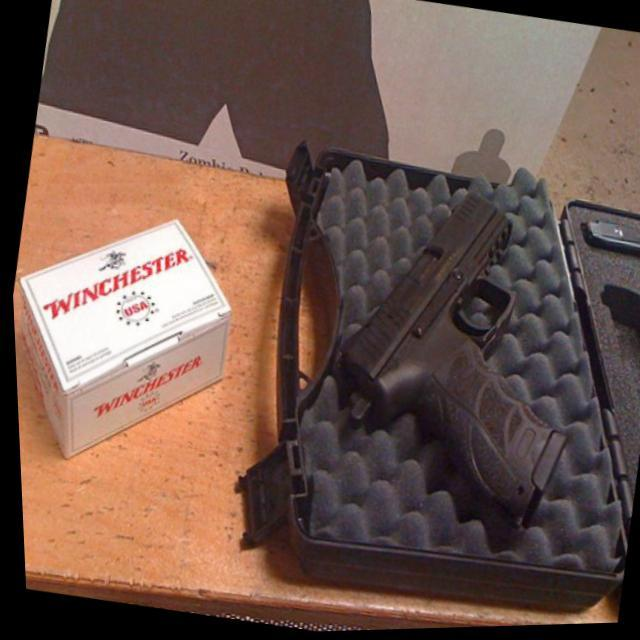weapon: (304, 168, 606, 539)
